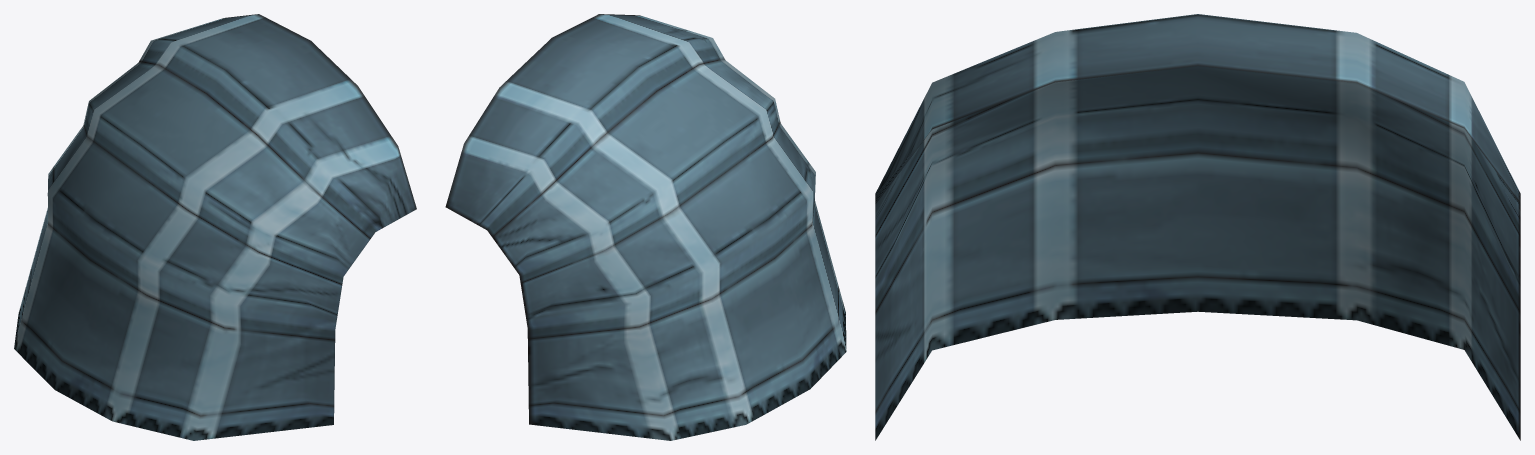
The model's file is 2_ChengZhen_PengZi_01.FBX.
The picture shows the model from 3 angles, left to right: view 1: azimuth 30°, elevation 25°; view 2: azimuth 150°, elevation 25°; view 3: azimuth 270°, elevation 25°; orthographic projection. The views are drawn at different scales.
Parts seen in each view (by area): view 1: 2_ChengZhen_PengZi_01; view 2: 2_ChengZhen_PengZi_01; view 3: 2_ChengZhen_PengZi_01.
Boxes of the visible parts, left/top/right/bottom form: 2_ChengZhen_PengZi_01: left=14, top=14, right=416, bottom=440; 2_ChengZhen_PengZi_01: left=445, top=14, right=846, bottom=440; 2_ChengZhen_PengZi_01: left=875, top=14, right=1520, bottom=440.
Bounding box in the file's own units: 217 × 231 × 310.
Materials: 1 (1 with a texture image).
